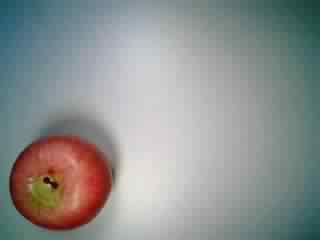apple: (10, 129, 114, 233)
